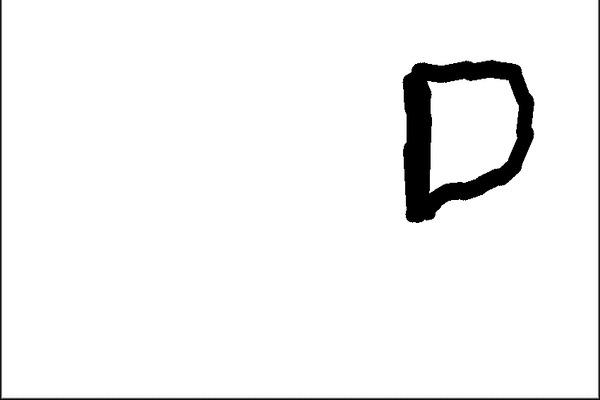D: (394, 46, 540, 231)
